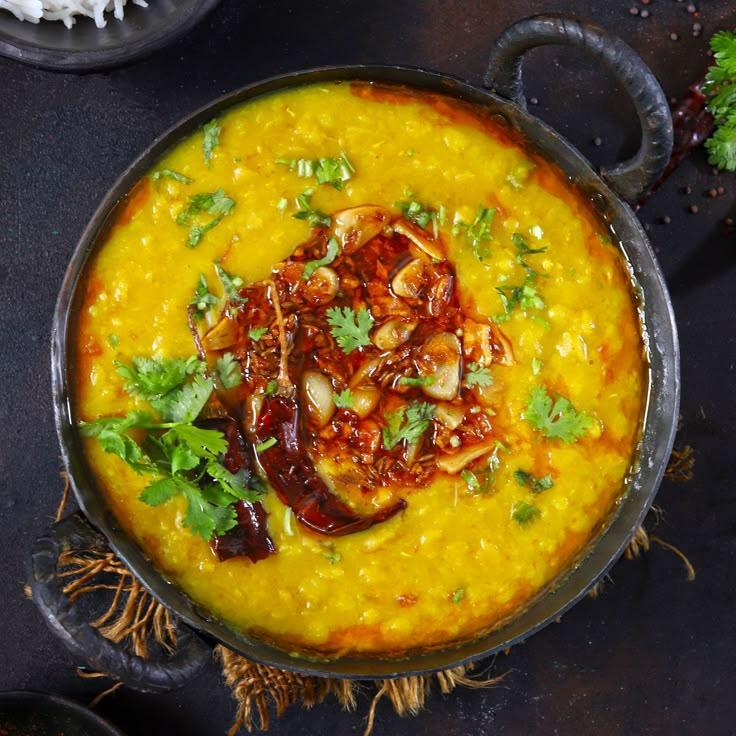daal: (81, 95, 655, 652)
